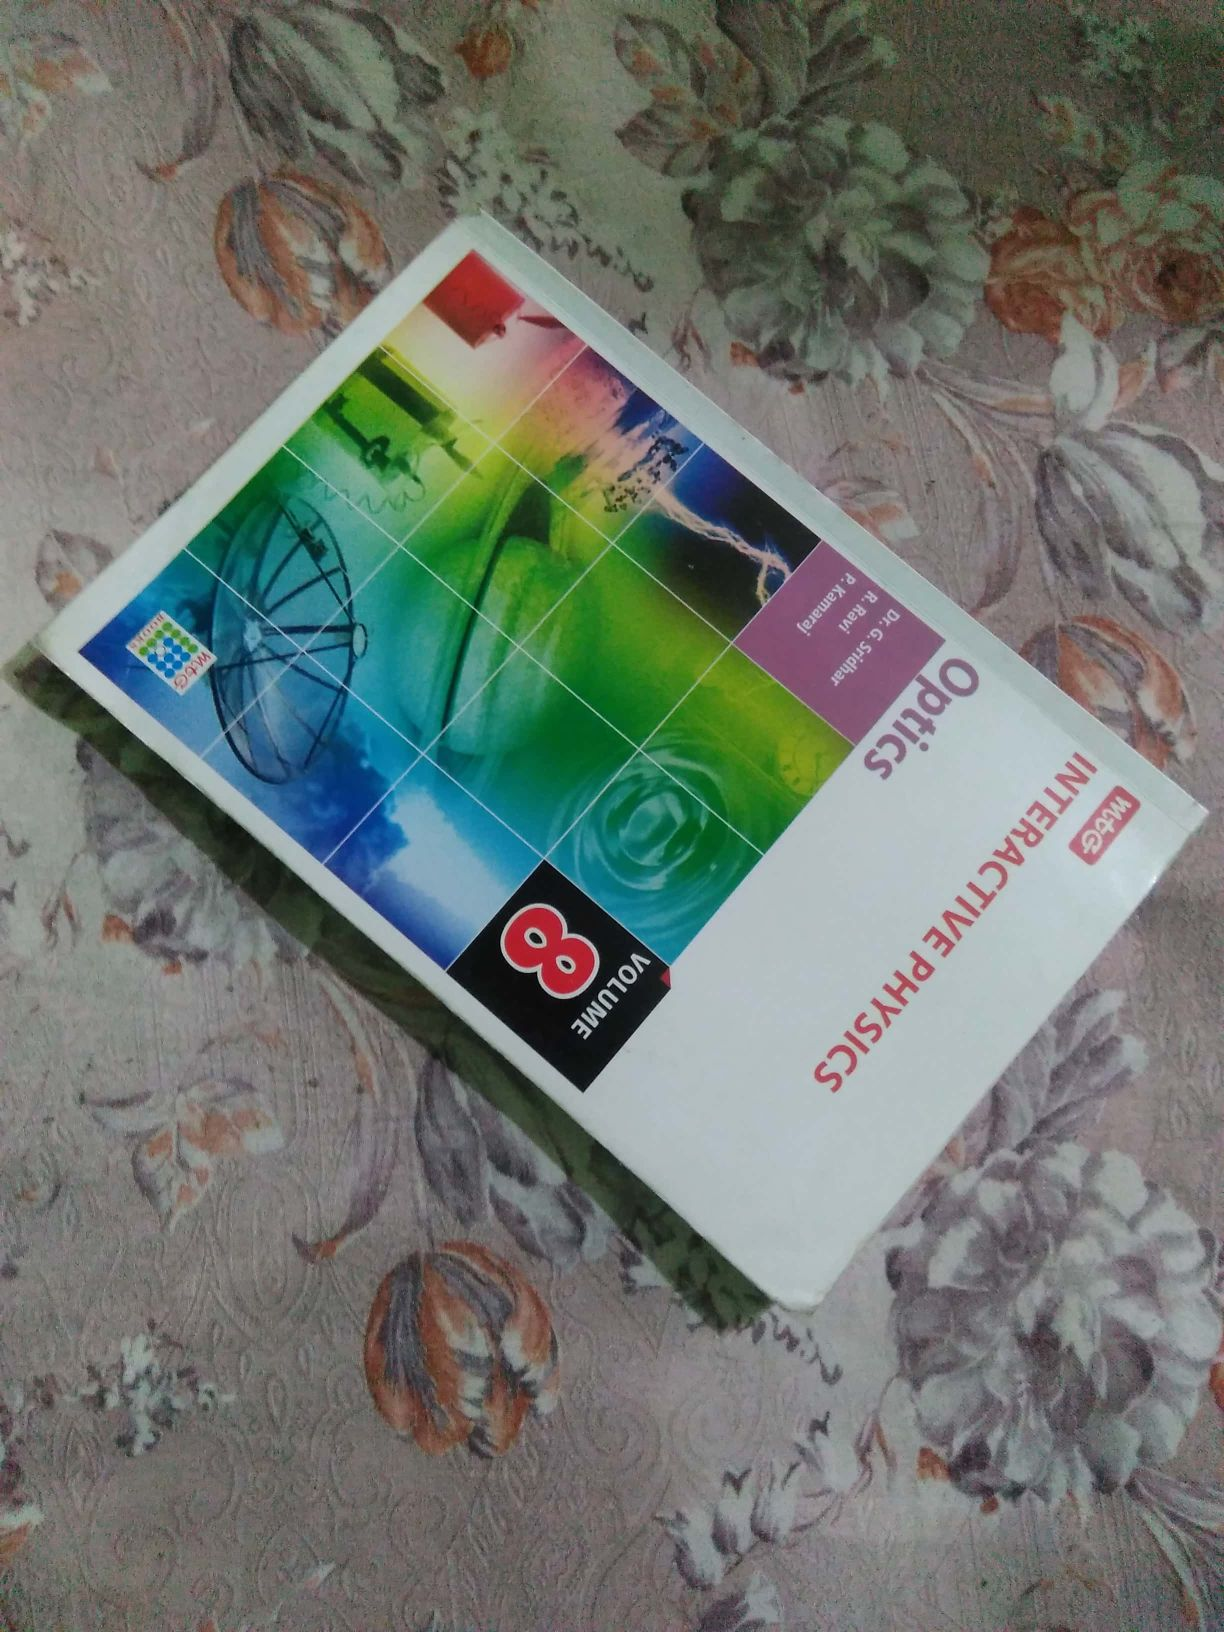optics: (53, 253, 1205, 1309)
